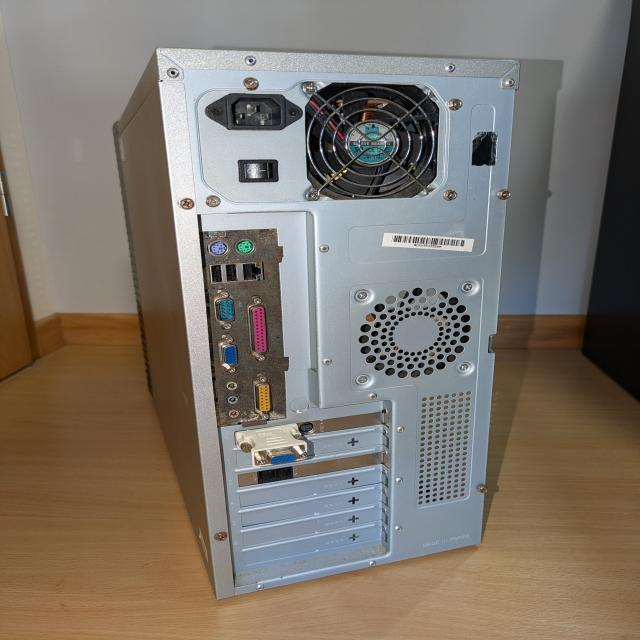PSU: (196, 80, 454, 203)
